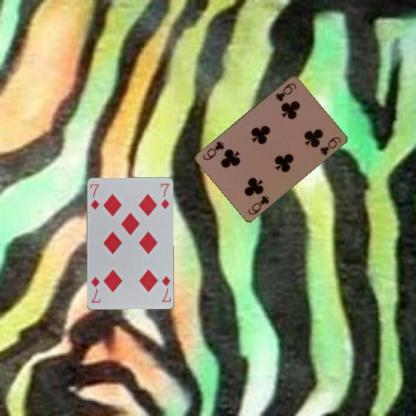6c: (246, 192, 270, 216), (273, 80, 298, 103)
7d: (87, 182, 100, 210), (160, 273, 172, 303)
